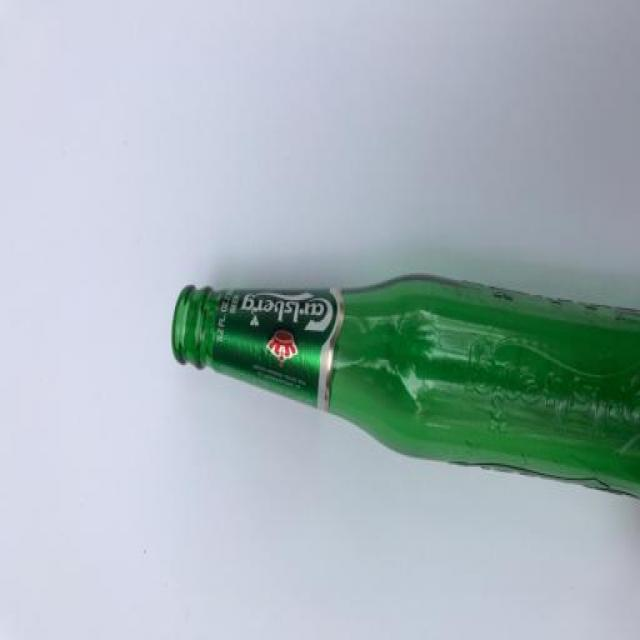glass: (133, 240, 640, 640)
